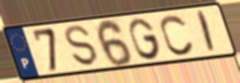6: (94, 17, 134, 68)
7: (30, 27, 60, 73)
C: (159, 13, 196, 58)
G: (128, 16, 164, 61)
I: (196, 9, 217, 55)
S: (64, 24, 100, 68)
